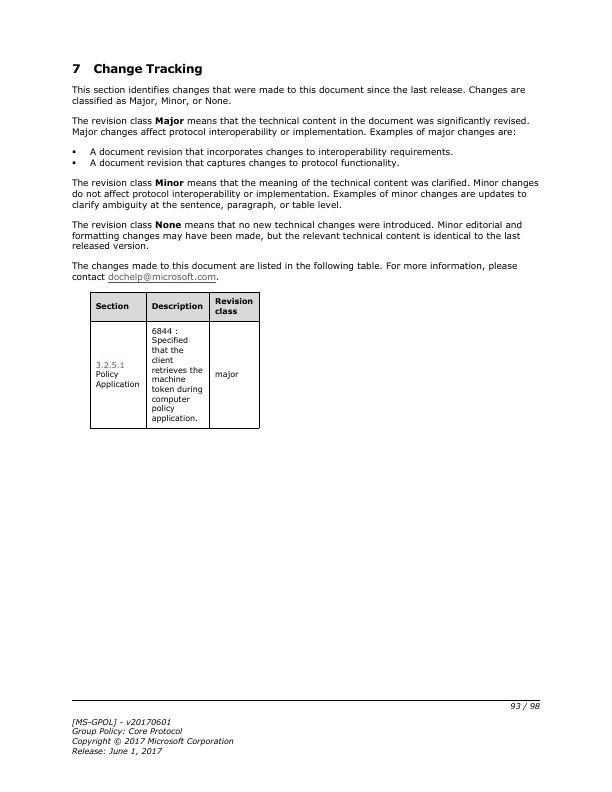table: (90, 291, 262, 431)
text: (69, 175, 540, 210), (70, 218, 526, 251), (70, 257, 519, 287), (70, 113, 532, 139), (68, 84, 526, 106), (68, 716, 235, 758), (88, 146, 456, 157), (87, 158, 401, 169), (68, 60, 205, 78)
